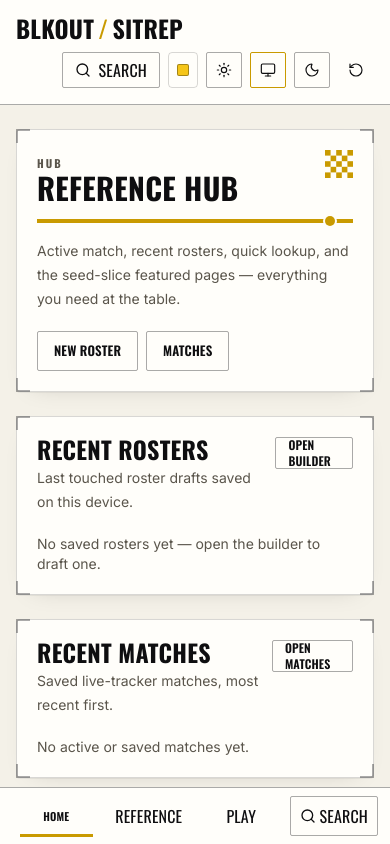
Test case: App smoke test › keeps search available from mobile navigation
Expected: the heading "Reference hub" is shown, [37,174,238,202]
Click the button "Search" in the row of "Home". click: coordinates (334, 816)
box: [290,796,378,836]
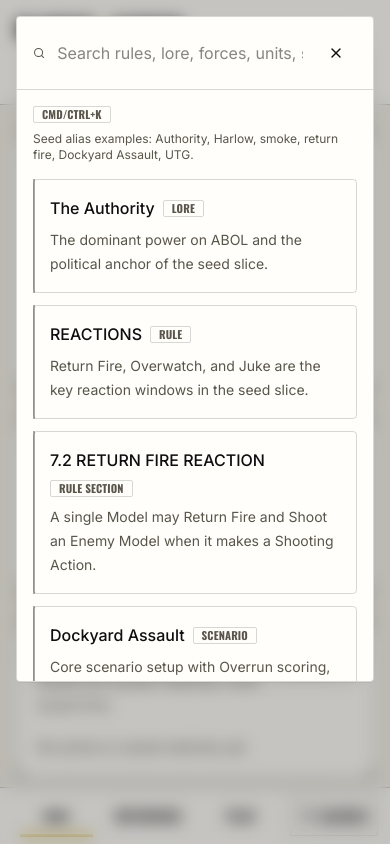
Type "harlow" into the field with placeholder "Search rules, lore, forces, units, scenarios, or glossary terms". click: coordinates (180, 53)
box: [57,41,303,65]
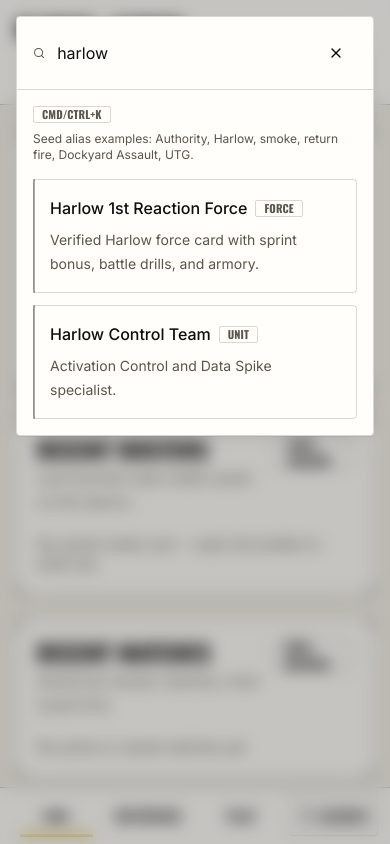
Expected: the text "Force" is shown, [256,200,303,216]
